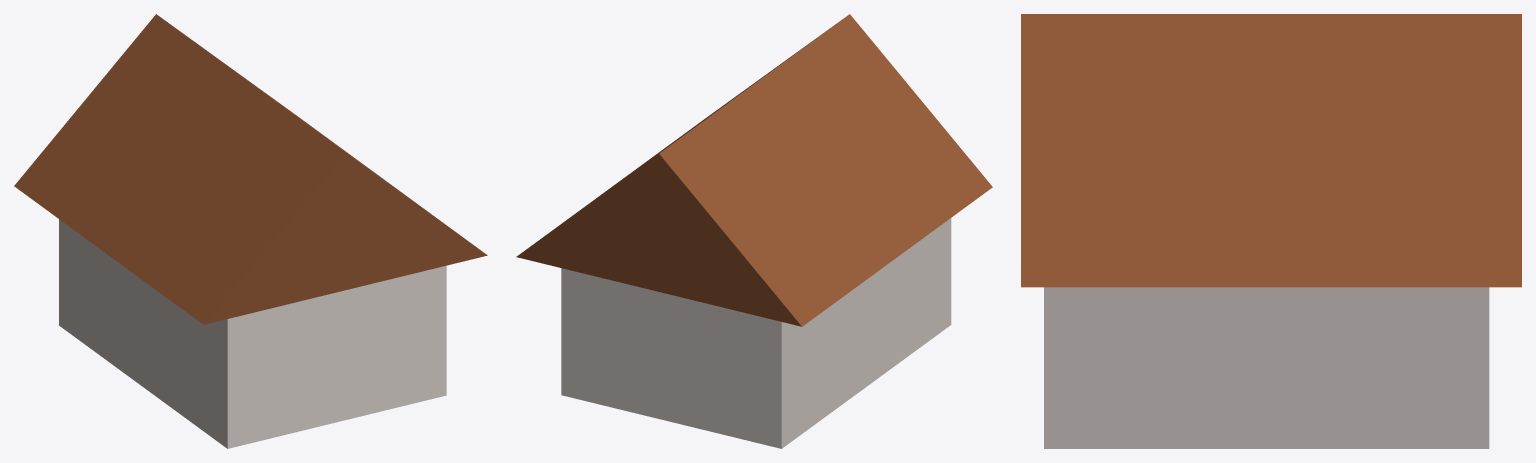
The model's file is low-poly-house.glb.
3 views of the same model, side by side, from view 1: azimuth 30°, elevation 25°; view 2: azimuth 150°, elevation 25°; view 3: azimuth 270°, elevation 25° (orthographic). The views are drawn at different scales.
Visible parts, largest first — view 1: Cylinder, Cube; view 2: Cylinder, Cube; view 3: Cylinder, Cube.
Part boxes in pixels (bbox=[...]): Cylinder: bbox=[14, 14, 487, 324]; Cube: bbox=[59, 219, 446, 448]; Cylinder: bbox=[516, 14, 992, 326]; Cube: bbox=[561, 218, 951, 448]; Cylinder: bbox=[1021, 14, 1521, 287]; Cube: bbox=[1044, 287, 1489, 448].
Size of the model in its own units: 7.79 by 7.22 by 9.
